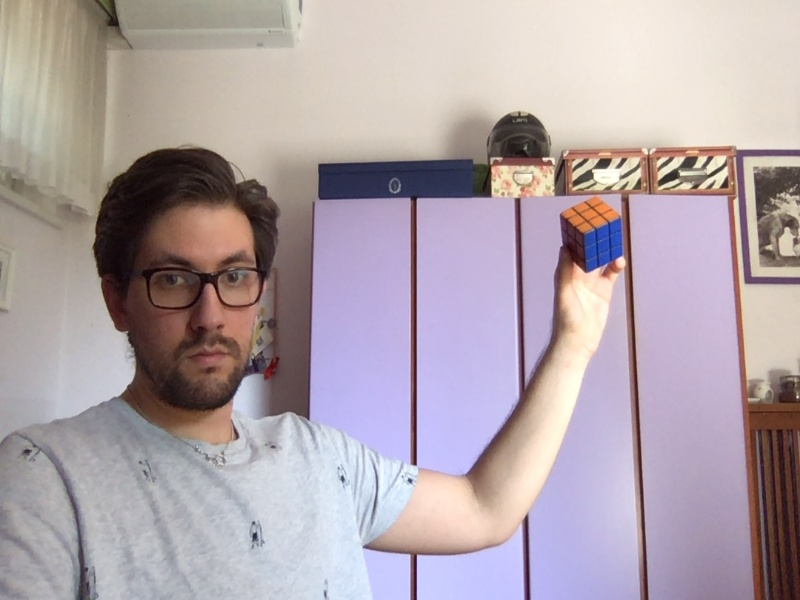rubik: (559, 197, 624, 274)
